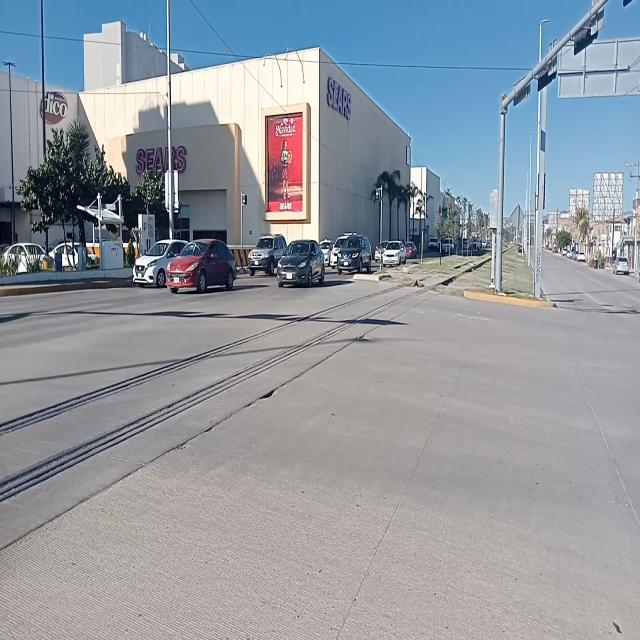Auto: (167, 235, 239, 295), (135, 236, 187, 284), (280, 240, 324, 286), (245, 231, 288, 274), (52, 242, 94, 274), (2, 242, 49, 268), (338, 238, 373, 272), (384, 237, 406, 264), (320, 234, 333, 267), (615, 253, 631, 277), (406, 237, 418, 258), (374, 242, 384, 265)
